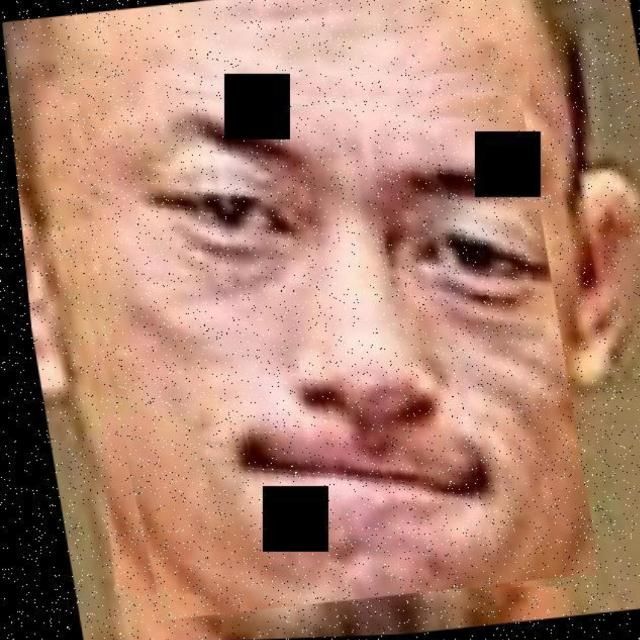Sad: (97, 83, 640, 640)
